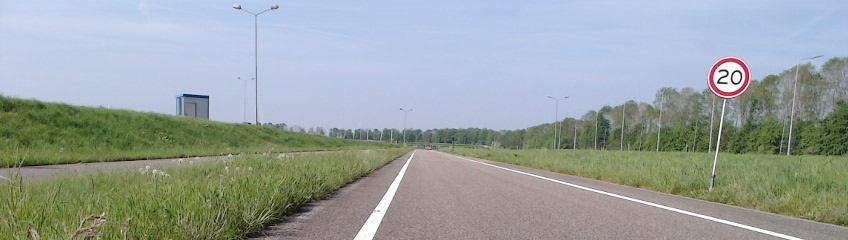Speed-limit-20km-h-: (707, 57, 751, 99)
